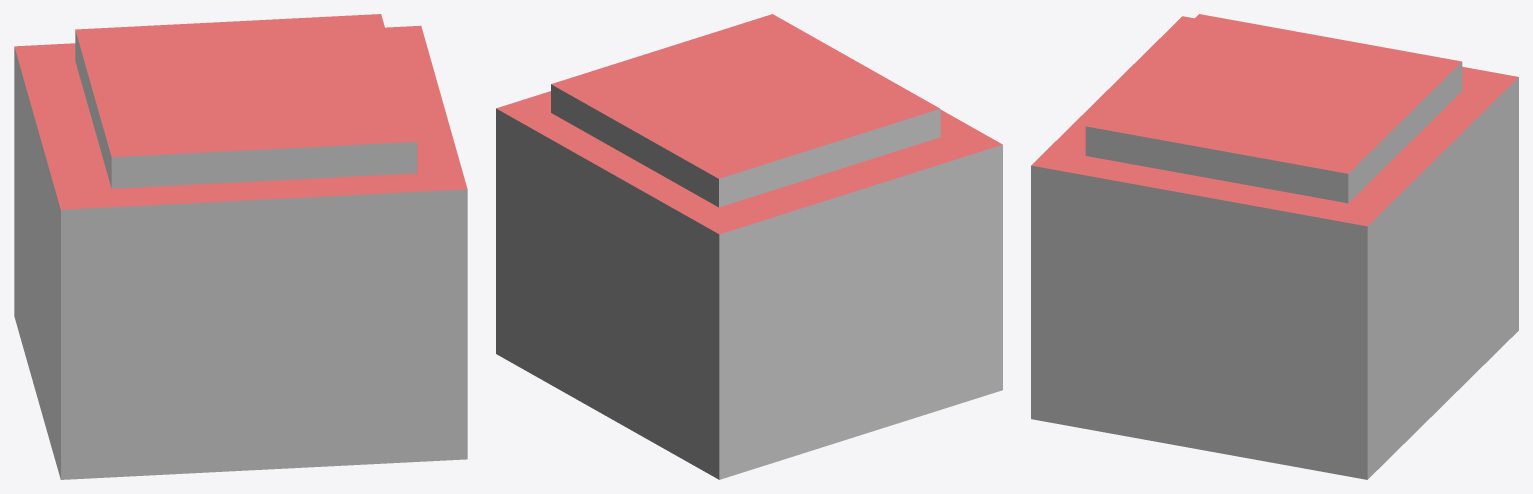
File: DEBY_LOD2_4906985.gltf
The picture shows the model from 3 angles, left to right: view 1: azimuth 30°, elevation 25°; view 2: azimuth 150°, elevation 25°; view 3: azimuth 270°, elevation 25°; orthographic projection. The views are drawn at different scales.
Parts seen in each view (by area): view 1: Z_UP; view 2: Z_UP; view 3: Z_UP.
Boxes of the visible parts, box(x1,y1,x2,y2) form: Z_UP: box(14, 14, 467, 479); Z_UP: box(496, 14, 1002, 479); Z_UP: box(1031, 14, 1518, 479).
Bounding box in the file's own units: 39.25 × 24.64 × 38.48.
